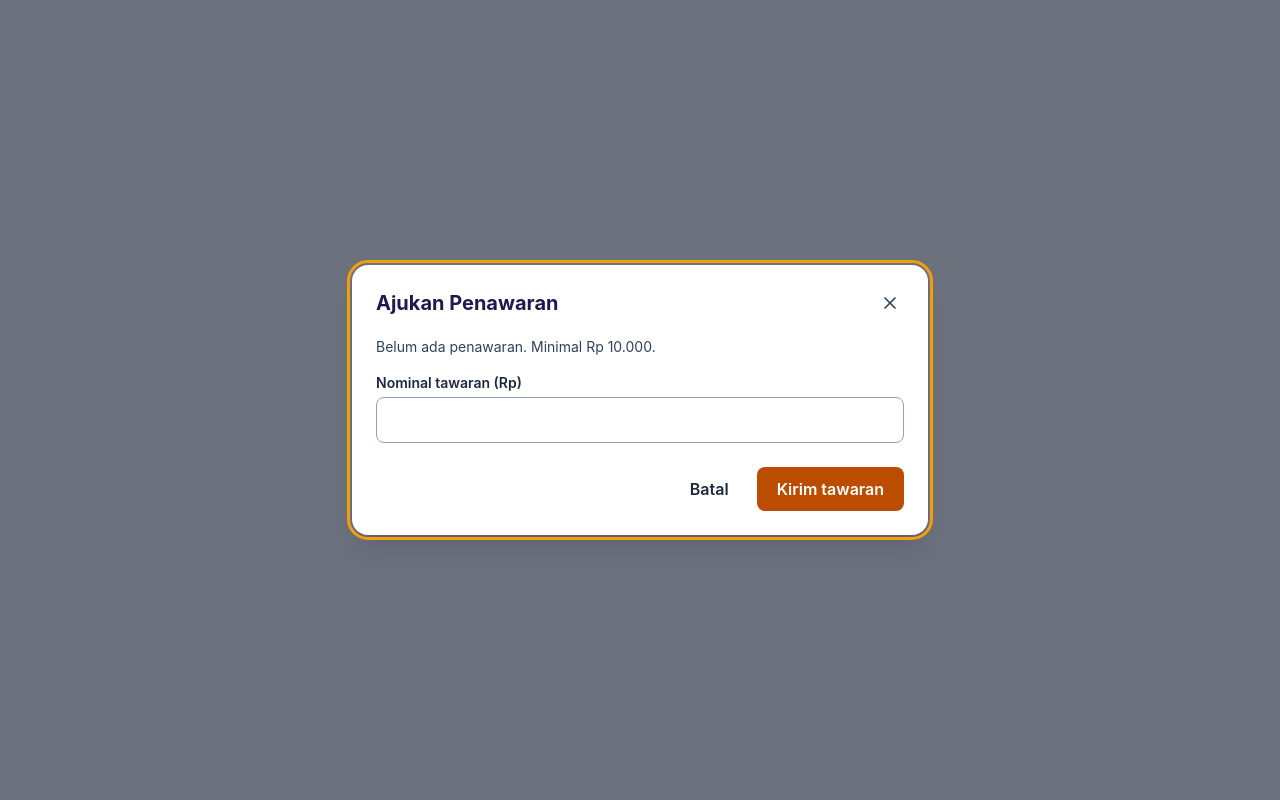
Test: BidModal › menolak tawaran di bawah harga awal bila belum ada bid
The width and height of the screenshot is (1280, 800).
Type "9999" into the number field with id "bid-amount" at (640,420), box [376,397,904,443]
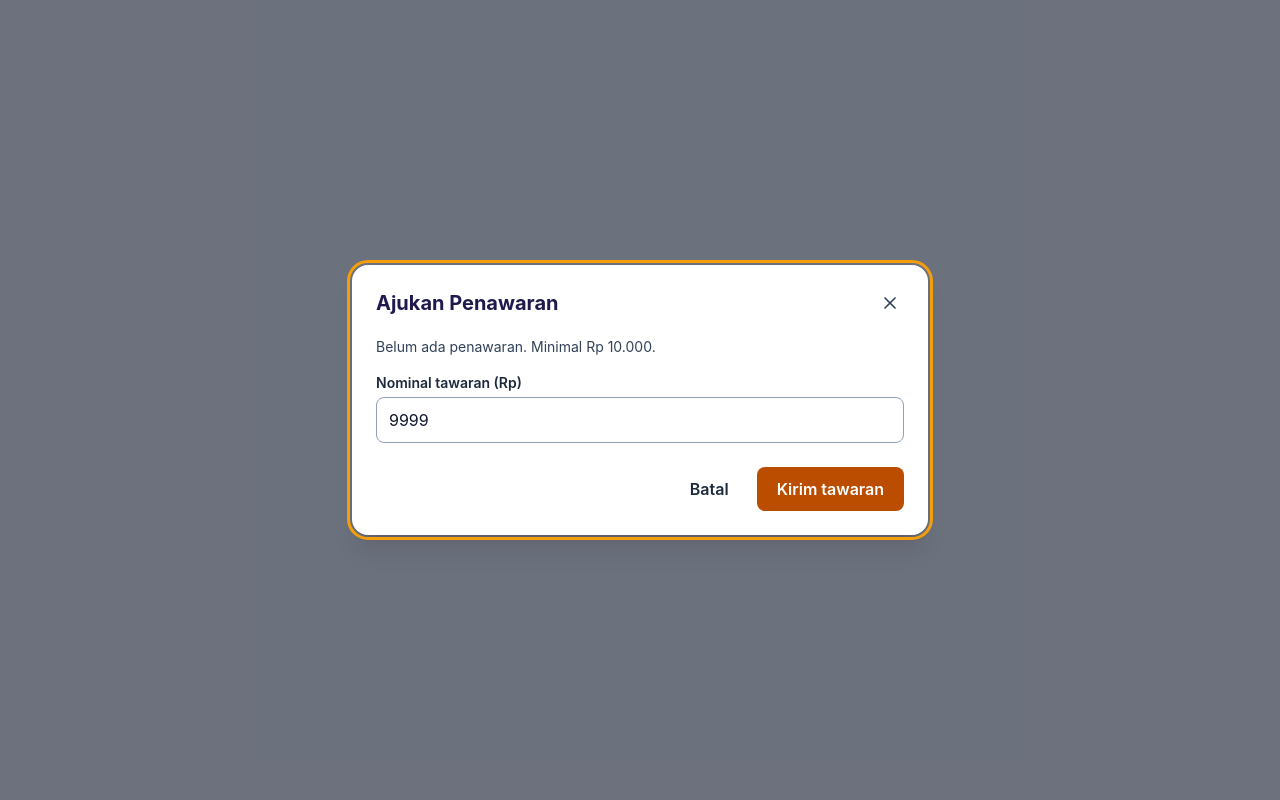
Submit the form, box [376,337,904,511]
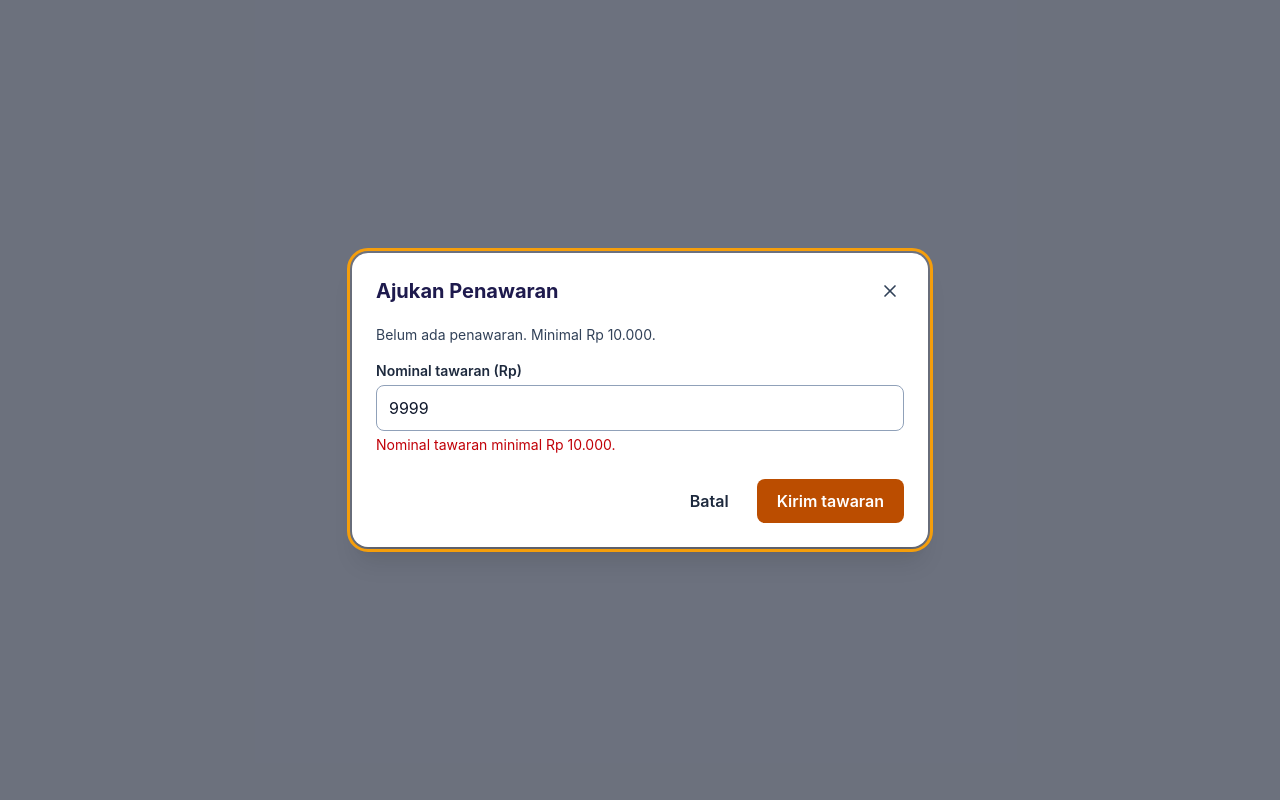
Check: the message "Nominal tawaran minimal Rp 10.000." is shown, box [376,436,616,453]
